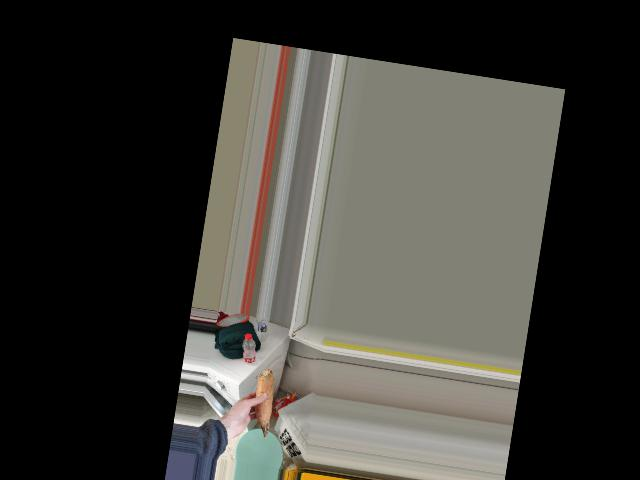sweet_potato: (244, 364, 283, 439)
